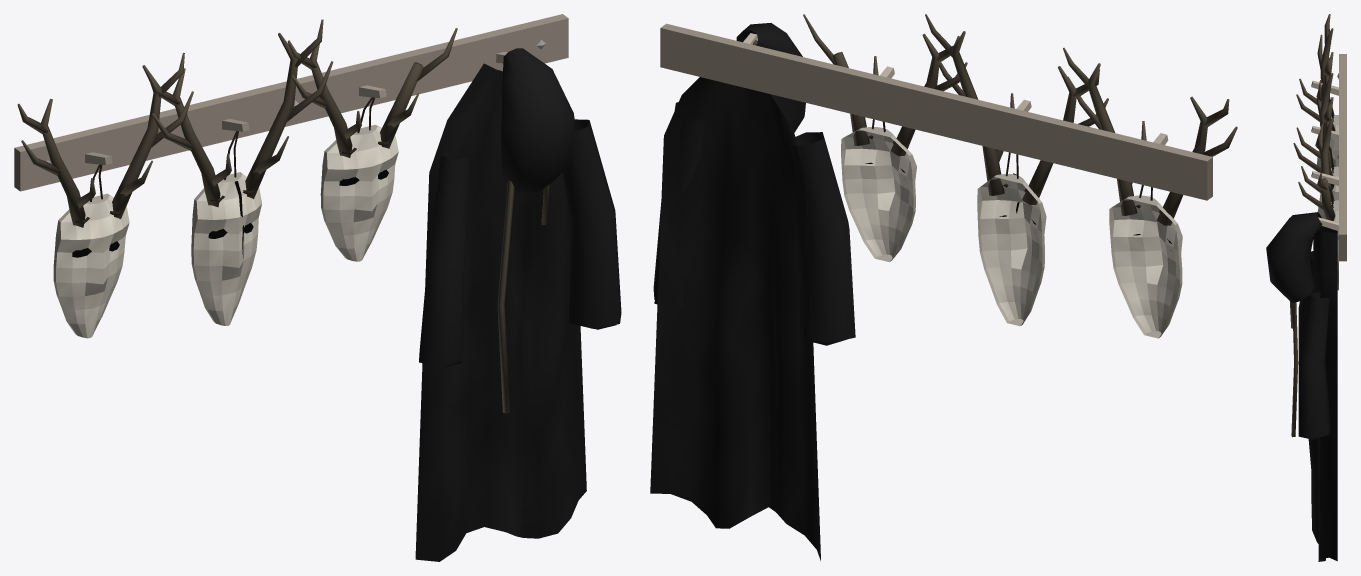
Rendered from prop_cult_masks.glb.
3 views of the same model, side by side, from view 1: azimuth 30°, elevation 25°; view 2: azimuth 150°, elevation 25°; view 3: azimuth 270°, elevation 25° (orthographic). The views are drawn at different scales.
Parts seen in each view (by area): view 1: CultMasksSoft, CultMasks; view 2: CultMasksSoft, CultMasks; view 3: CultMasksSoft, CultMasks.
Boxes of the visible parts, x1,y1,x2,y2 form: CultMasksSoft: (17, 19, 621, 561); CultMasks: (14, 14, 616, 367); CultMasksSoft: (650, 14, 1237, 560); CultMasks: (654, 23, 1212, 345); CultMasksSoft: (1266, 14, 1337, 561); CultMasks: (1304, 54, 1346, 438).
Bounding box in the file's own units: 1.73 × 1.59 × 0.3024.
